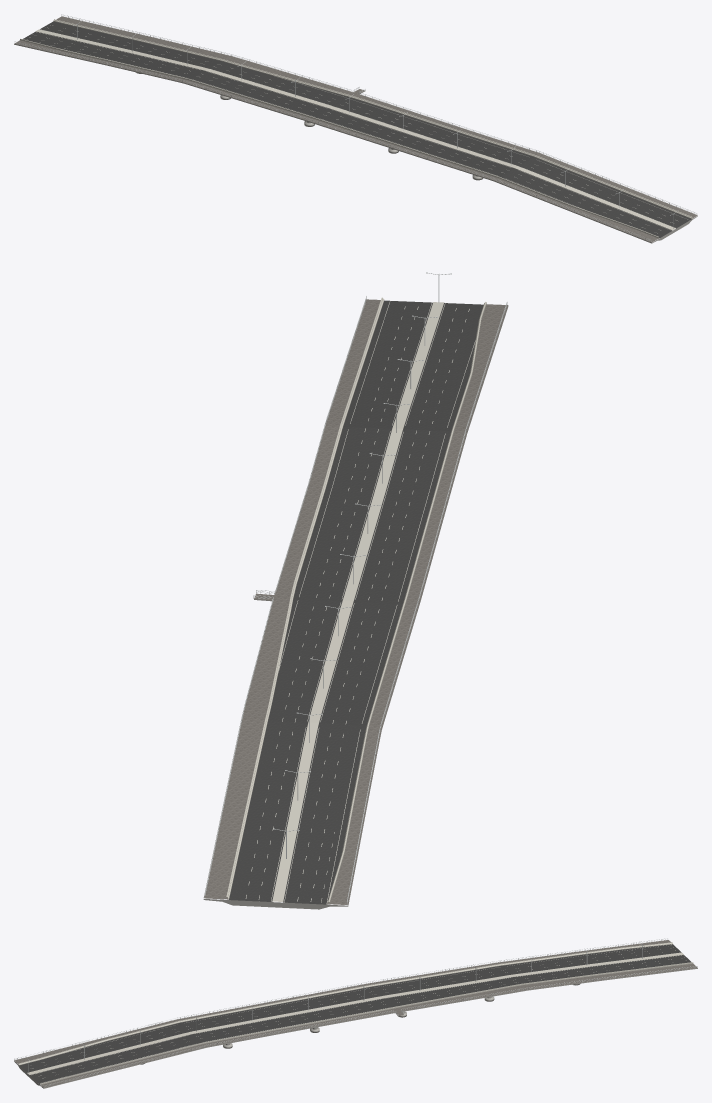
The picture shows the model from 3 angles, top to bottom: view 1: azimuth 30°, elevation 25°; view 2: azimuth 150°, elevation 25°; view 3: azimuth 270°, elevation 25°; orthographic projection. The views are drawn at different scales.
Visible parts, largest first — view 1: Bayfront asphalt, Bridge footway aggregate, Walkway kerbs and median, Bridge rails and lighting, Deck and pier concrete, Lane markings; view 2: Bayfront asphalt, Bridge footway aggregate, Walkway kerbs and median, Lane markings, Bridge rails and lighting, Deck and pier concrete; view 3: Bayfront asphalt, Walkway kerbs and median, Bridge footway aggregate, Bridge rails and lighting, Deck and pier concrete, Lane markings.
Part boxes in pixels (bbox=[...]): Bayfront asphalt: bbox=[23, 21, 691, 237]; Bridge footway aggregate: bbox=[14, 16, 697, 242]; Walkway kerbs and median: bbox=[20, 19, 692, 238]; Bridge rails and lighting: bbox=[14, 14, 697, 241]; Deck and pier concrete: bbox=[14, 44, 697, 243]; Lane markings: bbox=[27, 25, 687, 233]; Bayfront asphalt: bbox=[229, 300, 483, 904]; Bridge footway aggregate: bbox=[203, 299, 508, 904]; Walkway kerbs and median: bbox=[226, 297, 486, 903]; Lane markings: bbox=[245, 301, 475, 904]; Bridge rails and lighting: bbox=[204, 272, 507, 904]; Deck and pier concrete: bbox=[203, 306, 508, 909]; Bayfront asphalt: bbox=[19, 944, 691, 1084]; Walkway kerbs and median: bbox=[18, 942, 693, 1084]; Bridge footway aggregate: bbox=[14, 940, 697, 1087]; Bridge rails and lighting: bbox=[14, 938, 697, 1087]; Deck and pier concrete: bbox=[14, 968, 697, 1088]; Lane markings: bbox=[32, 944, 686, 1078].
Size of the model in its own units: 196 by 18.5 by 383.
Materials: 6 (2 with a texture image).
